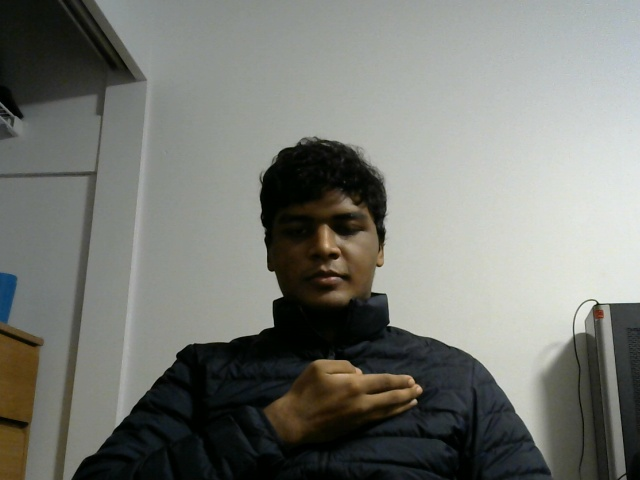Our: (253, 351, 428, 456)
